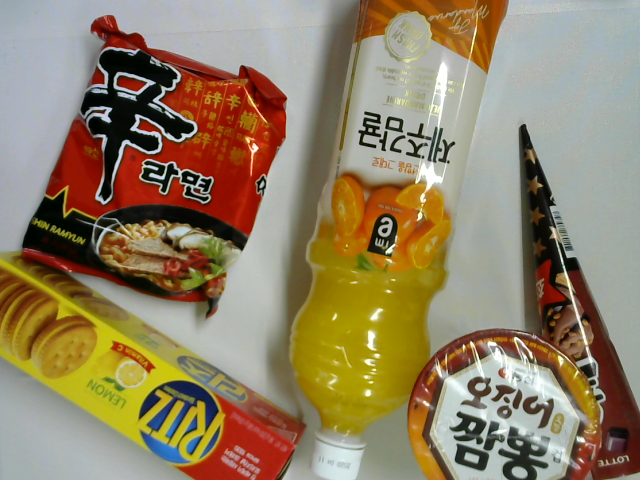GooGoo_Cone_CVS: (519, 124, 640, 480)
Jeju_Tangerine_1.5L: (288, 1, 510, 479)
Ojjam: (407, 326, 600, 480)
Ritz_Remon_96g: (1, 245, 304, 480)
Sinramen: (22, 9, 287, 321)
